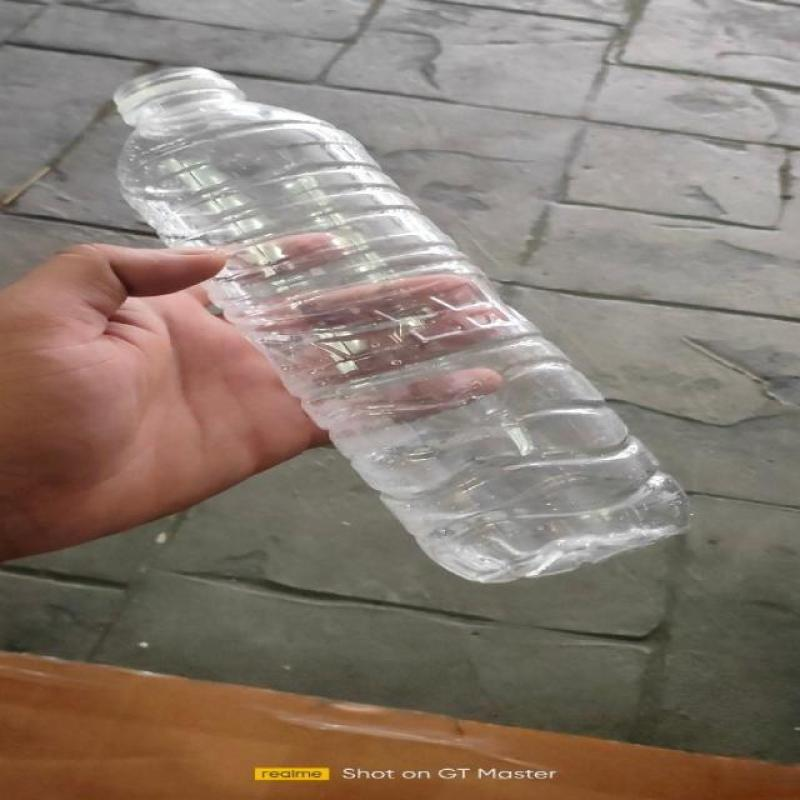botella: (117, 67, 694, 582)
